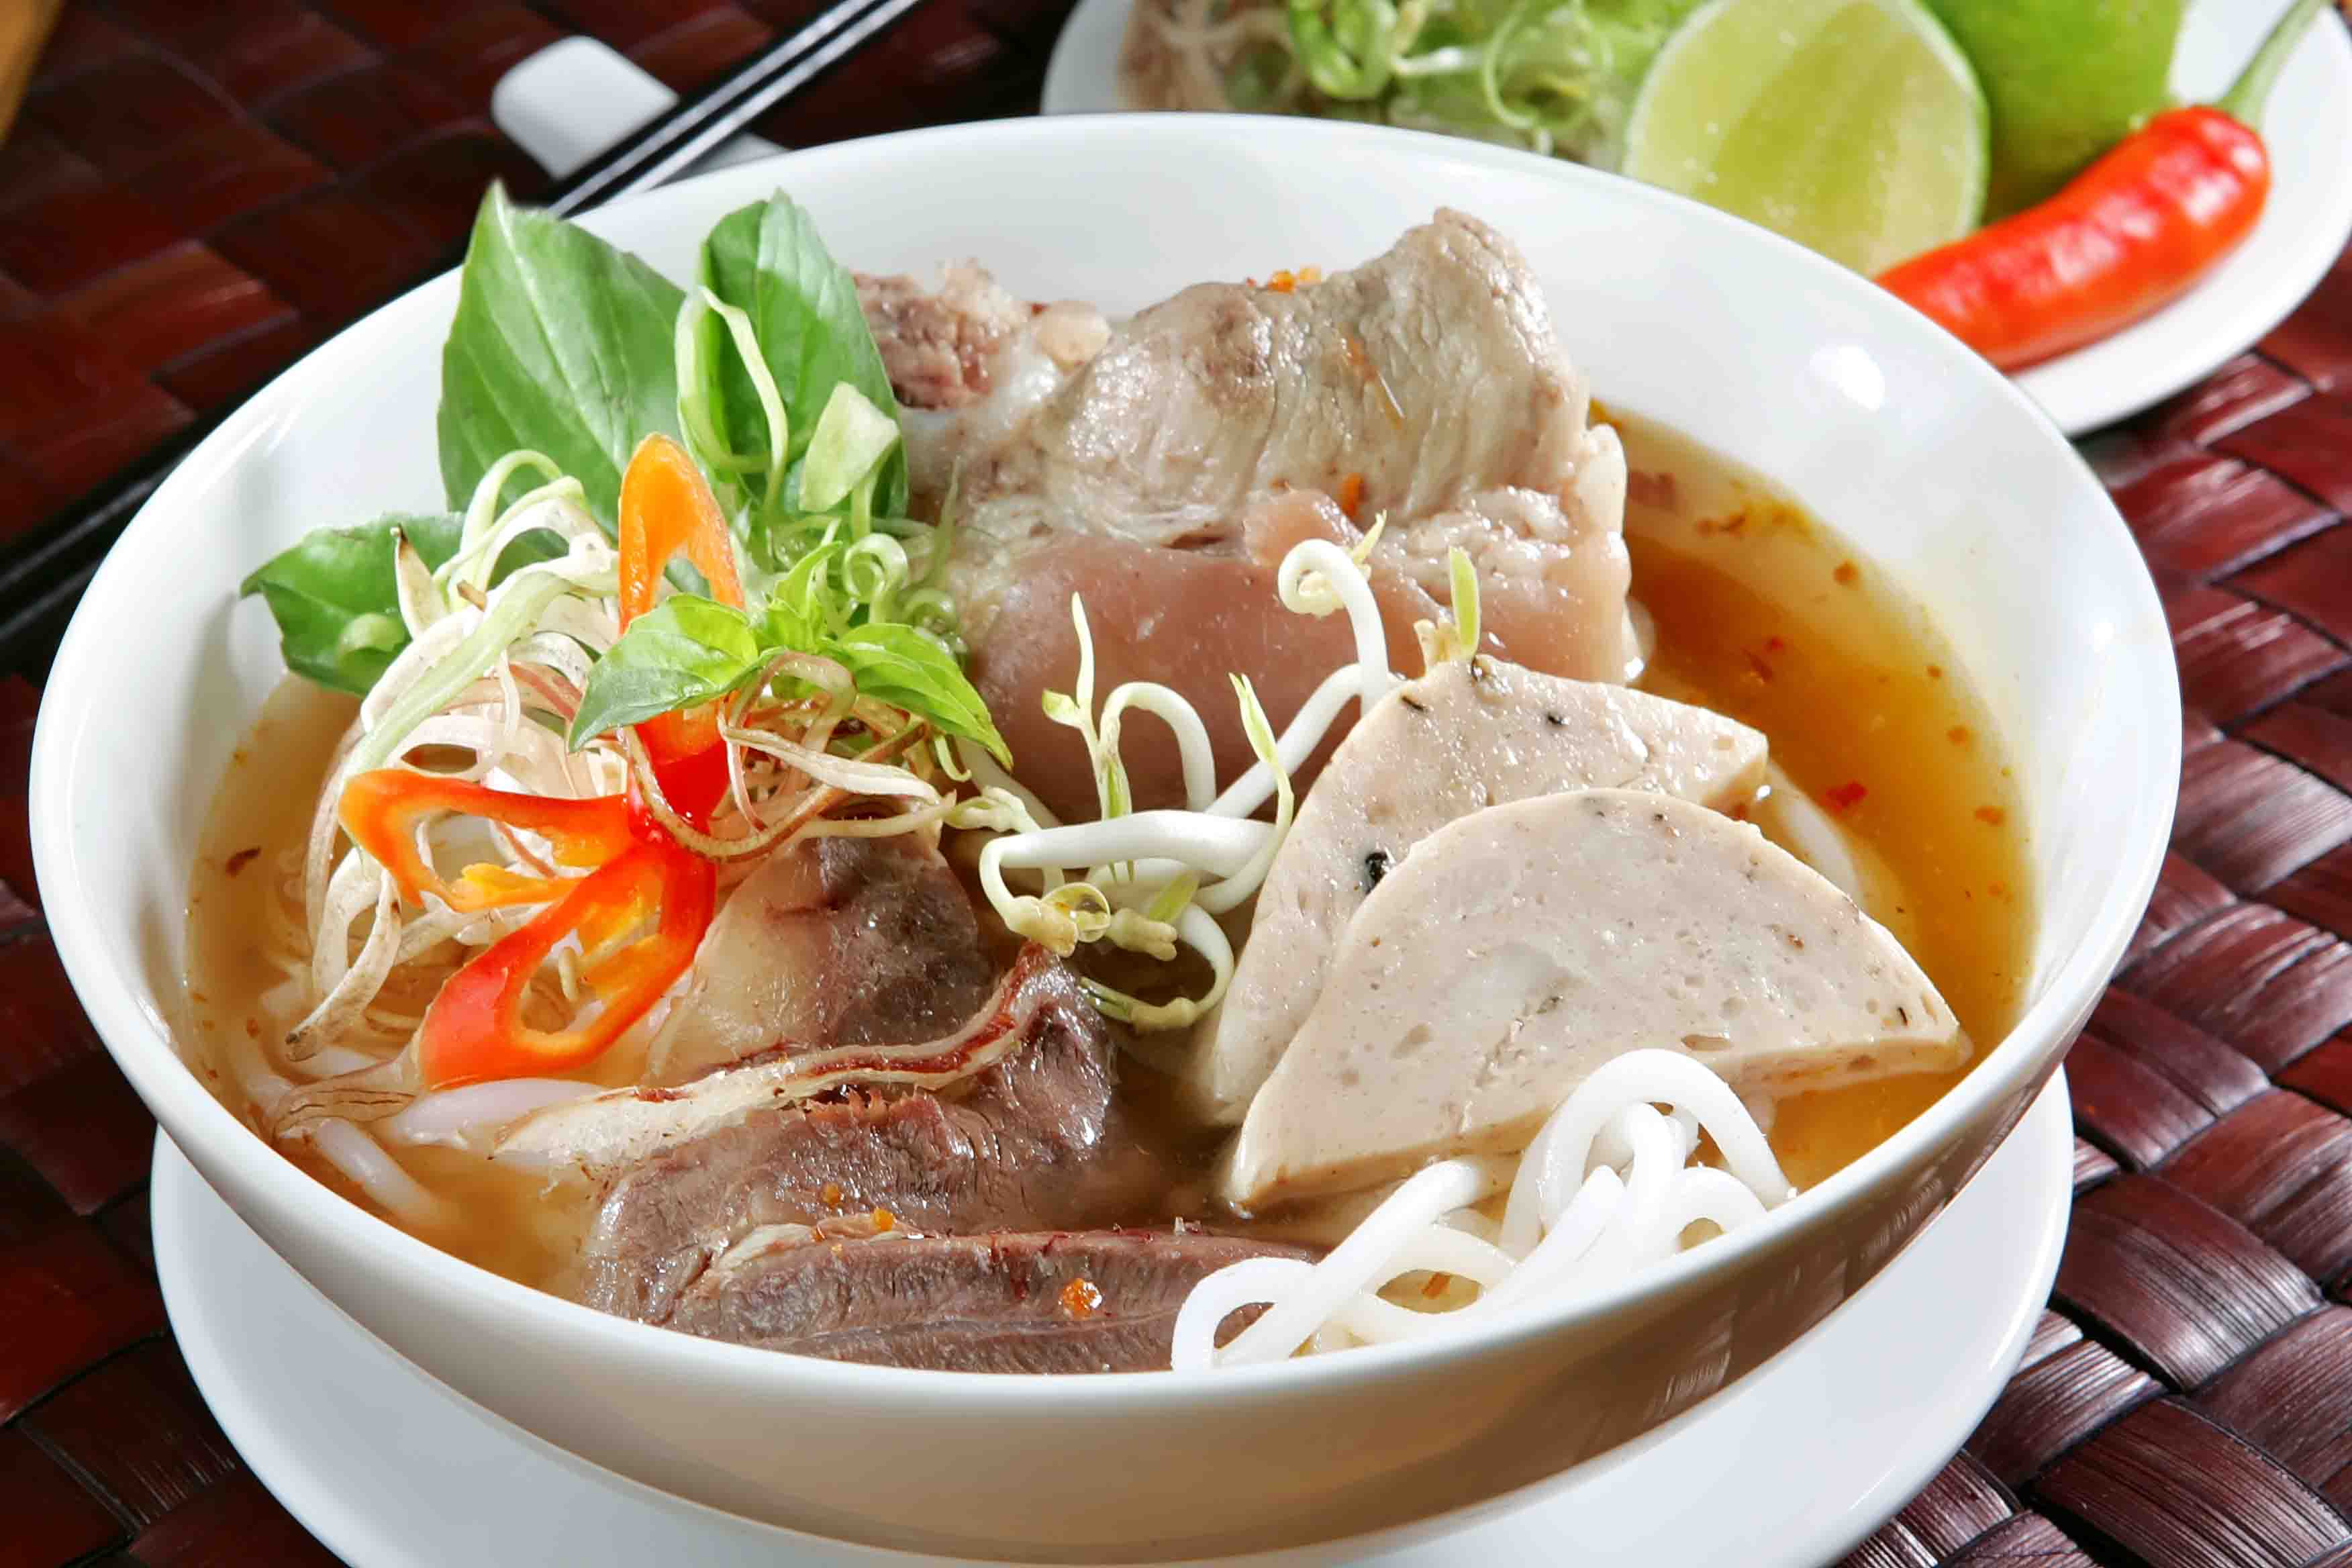beef: (558, 1106, 1274, 1367), (670, 837, 1064, 1171)
chamoc: (1225, 791, 1972, 1148)
chilli: (422, 822, 723, 1076), (597, 439, 784, 822), (339, 758, 670, 914)
pork: (940, 271, 1649, 698)
vegetable: (308, 196, 819, 663)
